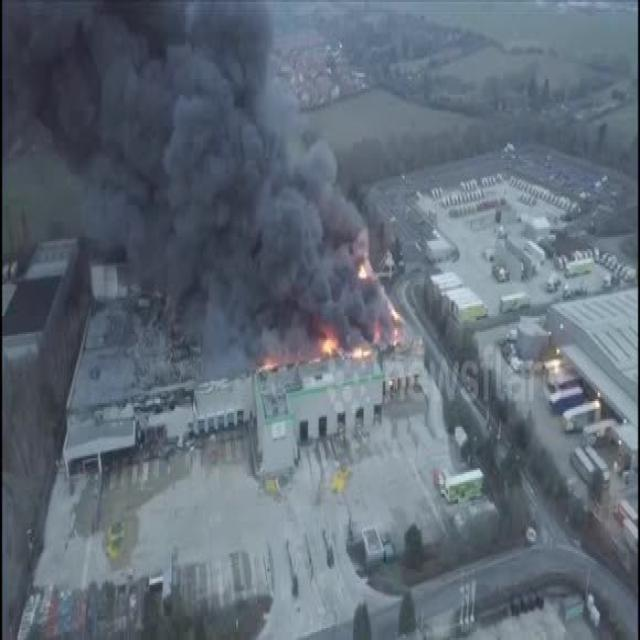Smoke: (0, 0, 378, 353)
